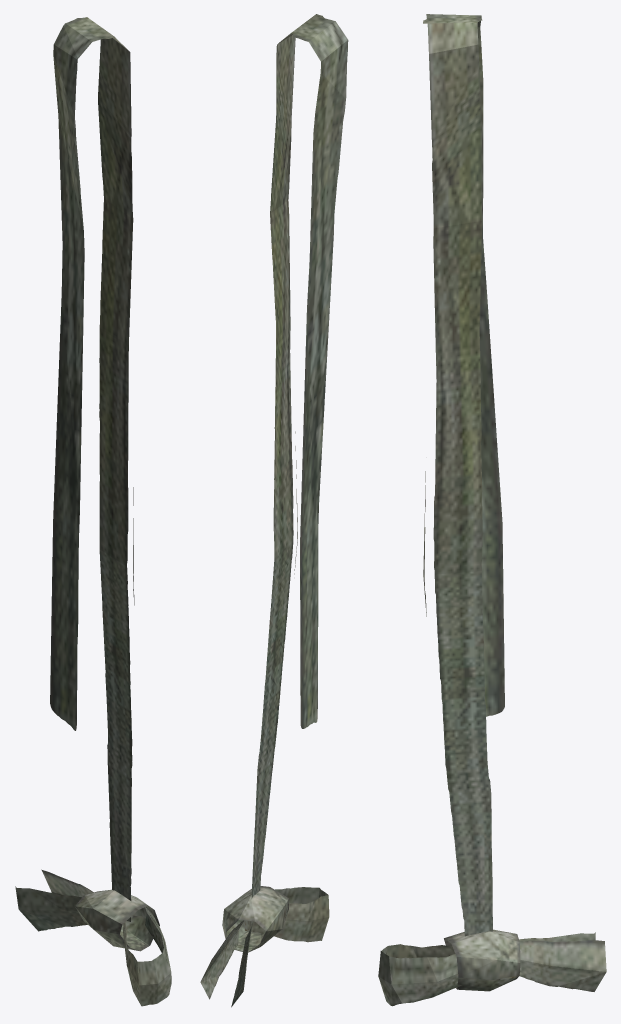
File: bg_anh_mirrorv_febricline03_sm_phs.FBX
3 renders of one model, left to right at view 1: azimuth 30°, elevation 25°; view 2: azimuth 150°, elevation 25°; view 3: azimuth 270°, elevation 25°, orthographic. The views are drawn at different scales.
Parts seen in each view (by area): view 1: bg_anh_mirrorv_febricline03_sm_phs; view 2: bg_anh_mirrorv_febricline03_sm_phs; view 3: bg_anh_mirrorv_febricline03_sm_phs.
Part boxes in pixels (bbox=[...]): bg_anh_mirrorv_febricline03_sm_phs: bbox=[15, 17, 171, 1006]; bg_anh_mirrorv_febricline03_sm_phs: bbox=[200, 14, 348, 1007]; bg_anh_mirrorv_febricline03_sm_phs: bbox=[378, 14, 606, 1006].
Bounding box in the file's own units: 22.27 × 210 × 44.63.
